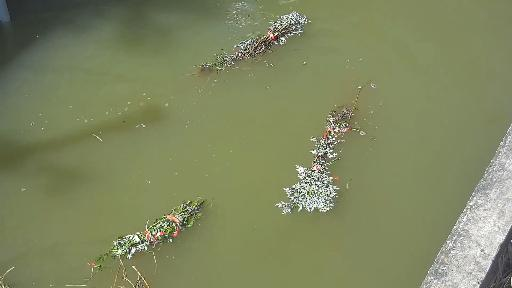twig: (72, 180, 218, 288), (275, 80, 370, 222), (193, 8, 309, 90)
